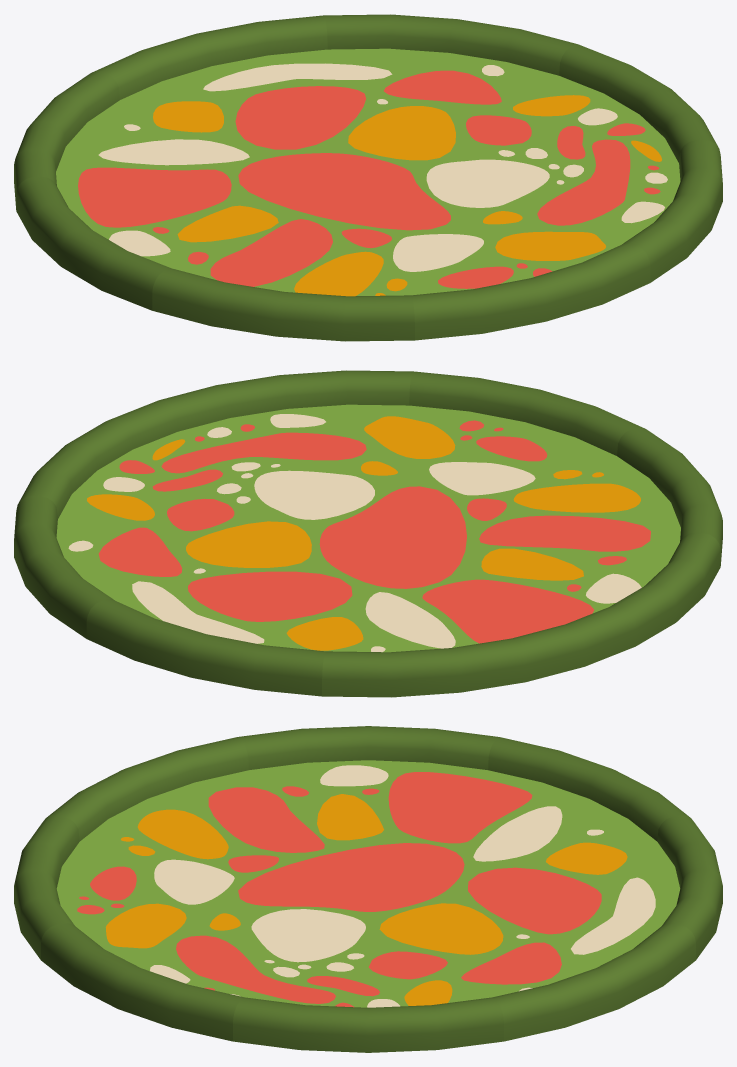
The model's file is Dough Pesto C.fbx.
3 views of the same model, one above another, from view 1: azimuth 30°, elevation 25°; view 2: azimuth 150°, elevation 25°; view 3: azimuth 270°, elevation 25° (orthographic).
Parts seen in each view (by area): view 1: Dough.007, Dough.003, Dough.006, Dough.002, Dough.008, Dough.004, Dough.005, Dough.009; view 2: Dough.009, Dough.005, Dough.002, Dough.006, Dough.008, Dough.004, Dough.003, Dough.007; view 3: Dough.008, Dough.004, Dough.003, Dough.005, Dough.007, Dough.009, Dough.002, Dough.006.
Part boxes in pixels (x1,y1,x2,y2): Dough.007: (152,181,414,341); Dough.003: (323,14,577,180); Dough.006: (368,181,650,340); Dough.002: (96,15,368,180); Dough.008: (16,176,367,310); Dough.004: (369,44,718,180); Dough.005: (369,140,722,282); Dough.009: (14,71,367,209); Dough.009: (322,537,584,697); Dough.005: (159,370,413,536); Dough.002: (86,537,368,696); Dough.006: (368,371,640,536); Dough.008: (369,532,720,666); Dough.004: (18,400,367,536); Dough.003: (14,496,367,638); Dough.007: (369,427,722,565); Dough.008: (237,726,499,891); Dough.004: (233,892,503,1052); Dough.003: (369,892,695,1041); Dough.005: (41,892,367,1041); Dough.007: (46,737,367,891); Dough.009: (369,737,690,891); Dough.002: (369,815,722,959); Dough.006: (14,815,367,959).
Bounding box in the file's own units: 2 × 0.1032 × 2.
